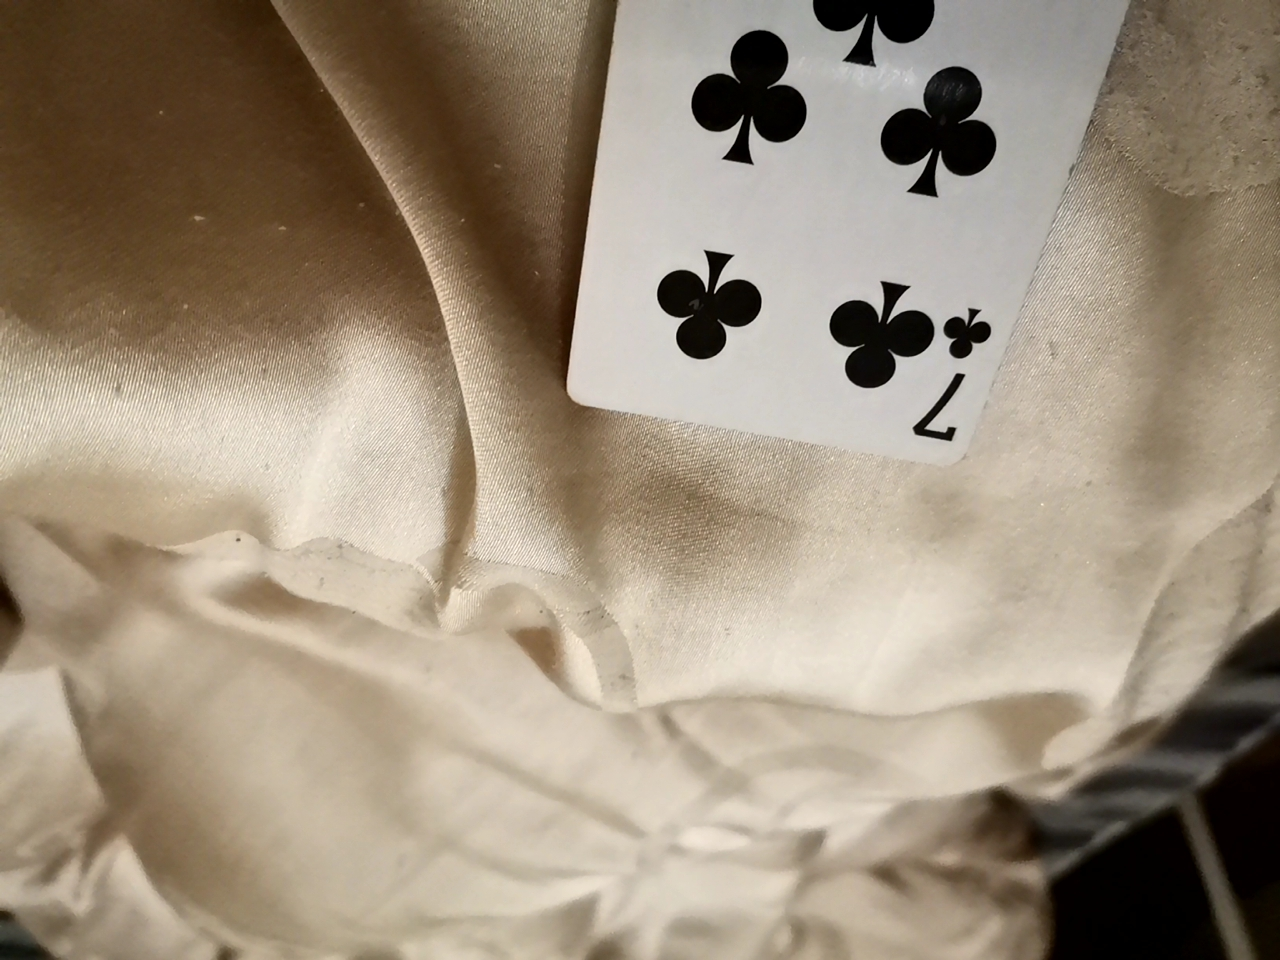mh 7: (569, 1, 1116, 463)
